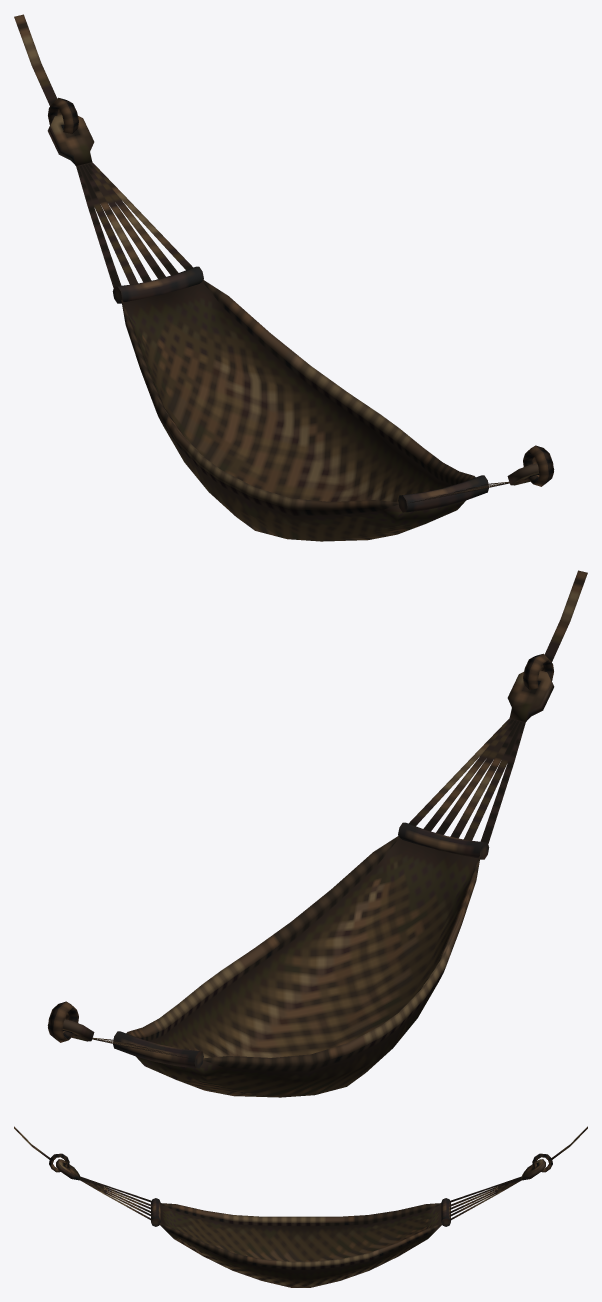
File: EnvObjMD_Hammock_A.FBX
3 renders of one model, top to bottom at view 1: azimuth 30°, elevation 25°; view 2: azimuth 150°, elevation 25°; view 3: azimuth 270°, elevation 25°, orthographic. The views are drawn at different scales.
Visible parts, largest first — view 1: EnvObjMD_Hammock_A; view 2: EnvObjMD_Hammock_A; view 3: EnvObjMD_Hammock_A.
Boxes of the visible parts, x1,y1,x2,y2 form: EnvObjMD_Hammock_A: (14, 14, 554, 541); EnvObjMD_Hammock_A: (47, 570, 587, 1097); EnvObjMD_Hammock_A: (14, 1126, 587, 1287).
Size of the model in its own units: 113 by 177 by 597.
Materials: 1 (1 with a texture image).
